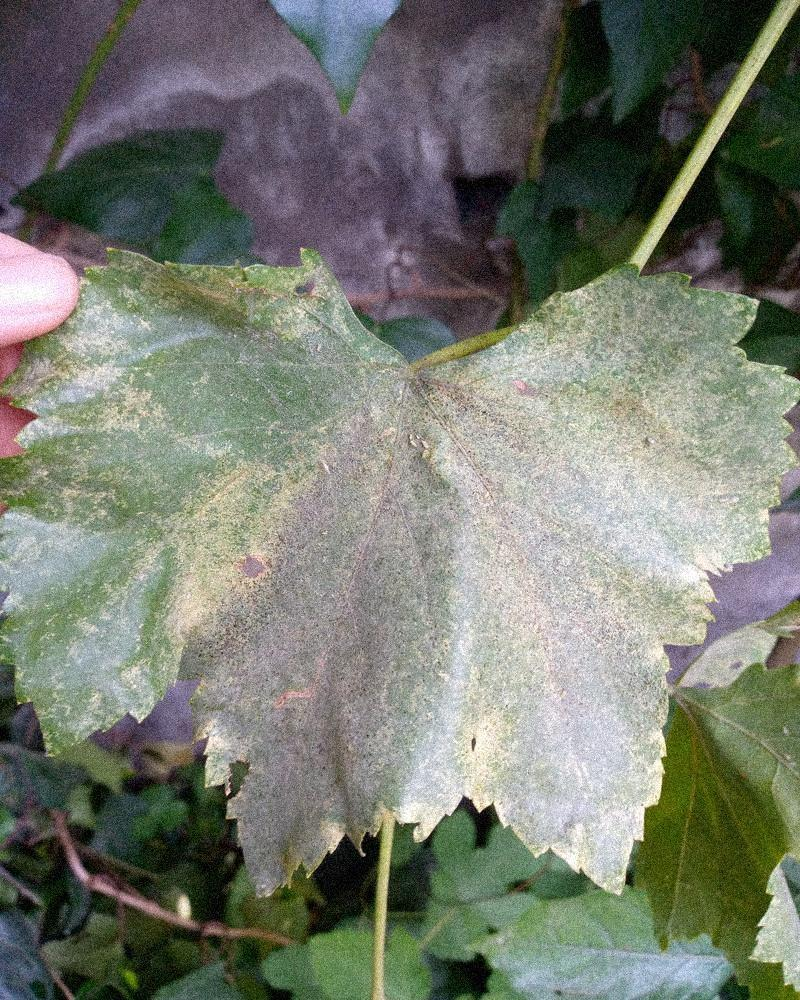Powdery-Mildew: (404, 493, 746, 886), (514, 322, 724, 532), (139, 448, 311, 690), (295, 583, 434, 791), (51, 276, 210, 439), (307, 398, 462, 559), (0, 503, 129, 618), (461, 469, 583, 588)
